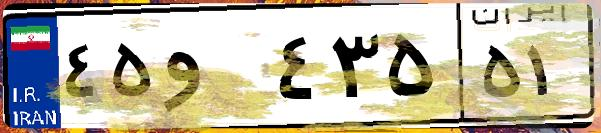1: (525, 38, 570, 115)
3: (330, 28, 385, 110)
4: (270, 28, 330, 110), (57, 26, 110, 100)
5: (385, 28, 445, 110), (475, 38, 525, 113), (110, 28, 158, 98)
و: (158, 20, 270, 120)
